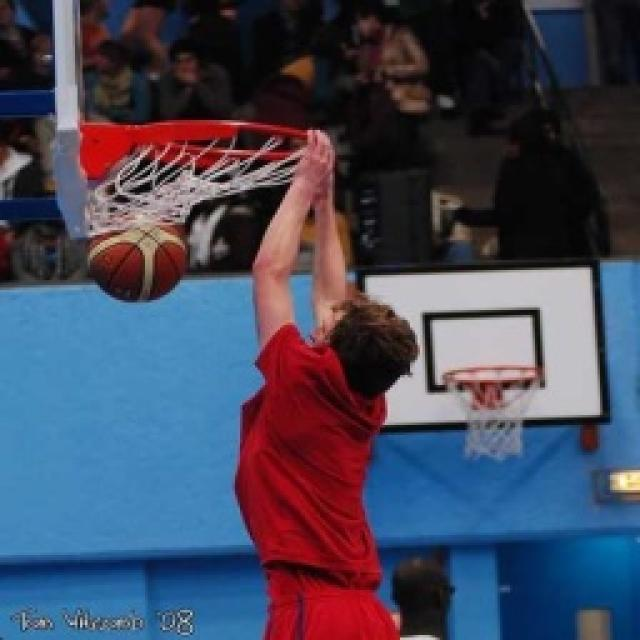rim: (81, 204, 194, 310)
